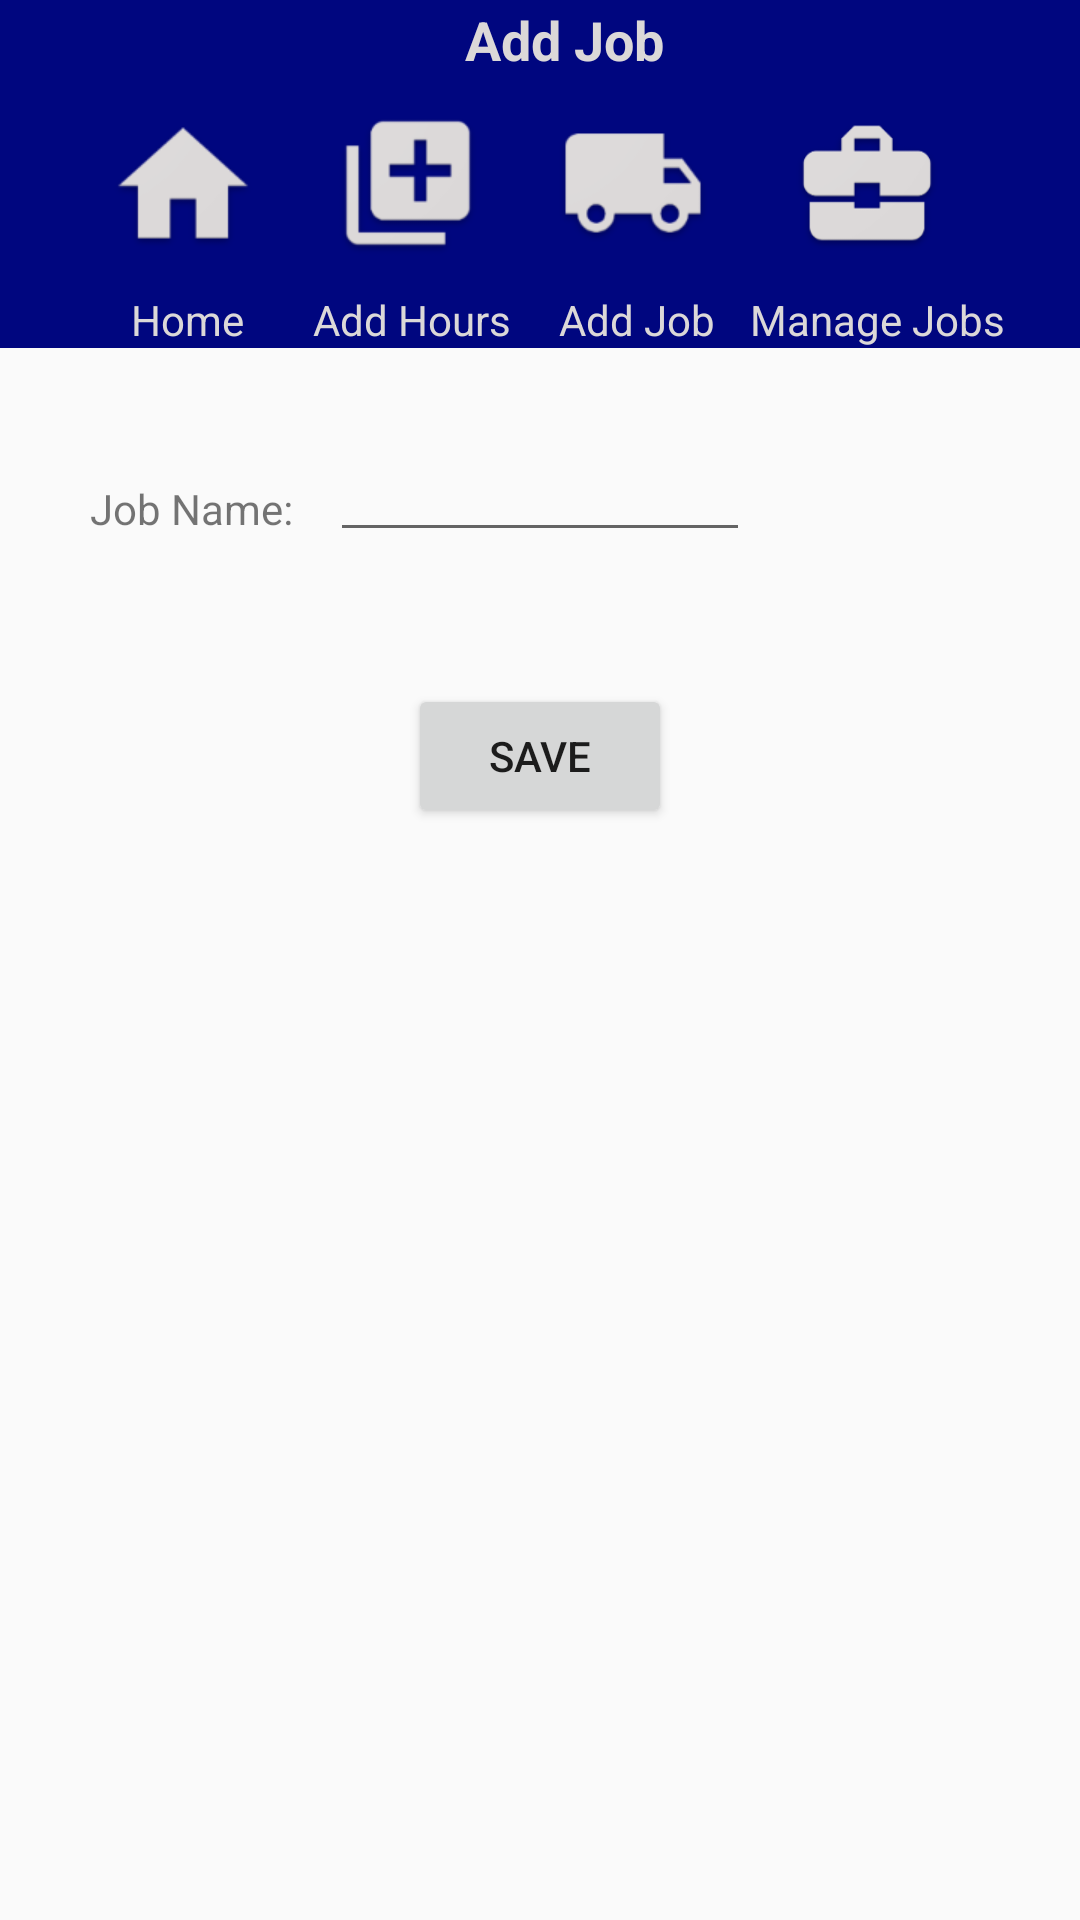

Point at icon controls on the screen. Image size 1080 × 1920, points as [x,y].
job manager: [867,183]
